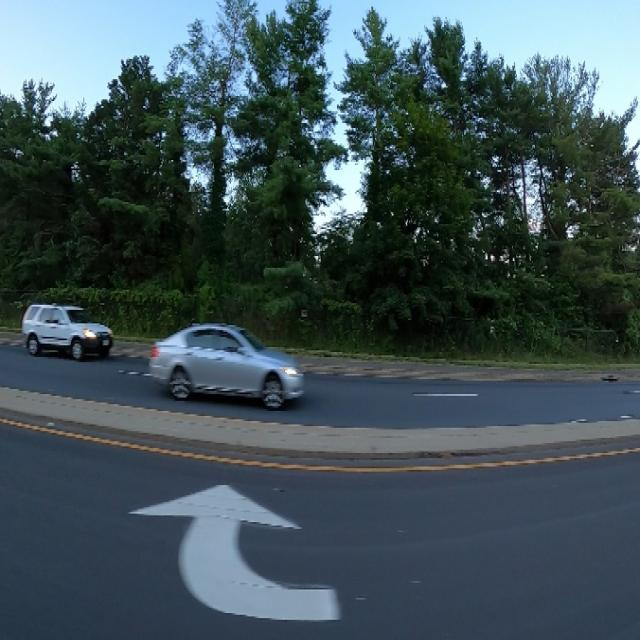cars: (149, 310, 308, 420), (21, 296, 113, 366)
